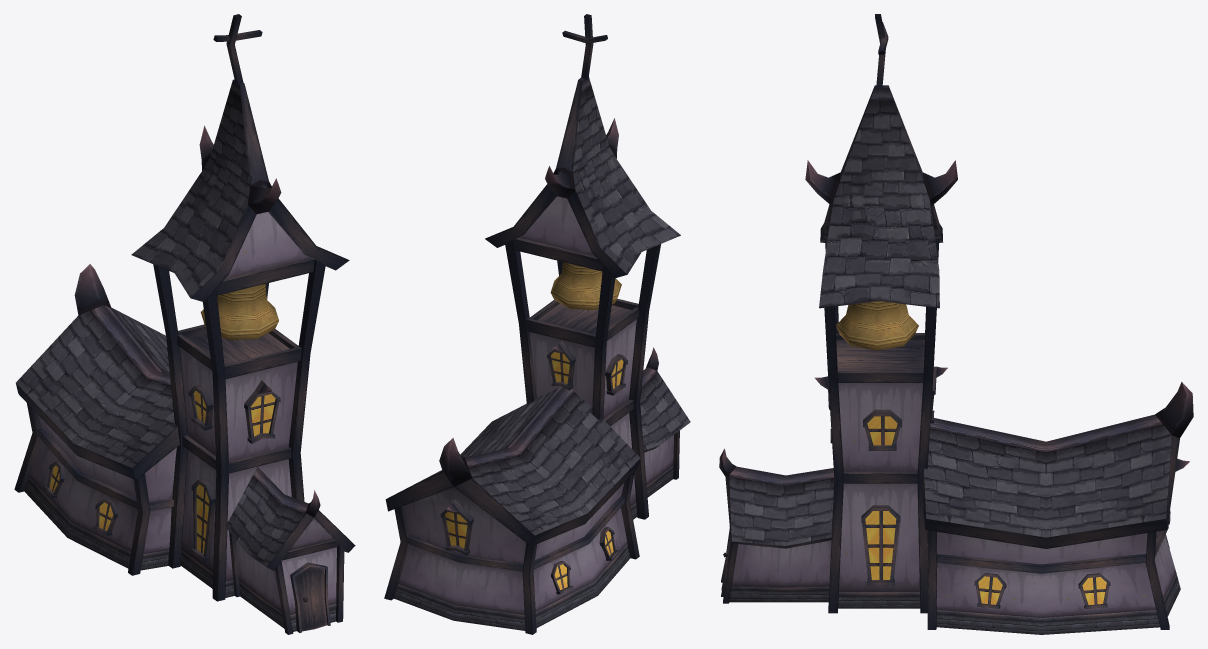
File: Church.fbx
The picture shows the model from 3 angles, left to right: view 1: azimuth 30°, elevation 25°; view 2: azimuth 150°, elevation 25°; view 3: azimuth 270°, elevation 25°; orthographic projection. The views are drawn at different scales.
Visible parts, largest first — view 1: Church; view 2: Church; view 3: Church.
Part boxes in pixels (x1,y1,x2,y2): Church: (14, 14, 355, 634); Church: (384, 14, 690, 634); Church: (719, 14, 1193, 634).
Bounding box in the file's own units: 253 × 739 × 554.
Materials: 1 (1 with a texture image).
